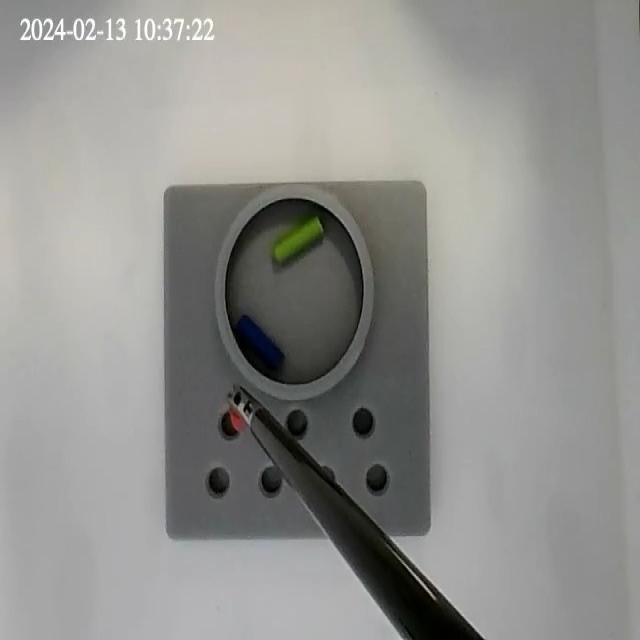EmptyHole: (256, 458, 286, 499), (204, 461, 234, 500), (363, 456, 391, 497), (216, 407, 248, 441), (284, 404, 312, 442), (349, 404, 376, 439), (313, 462, 337, 497)
